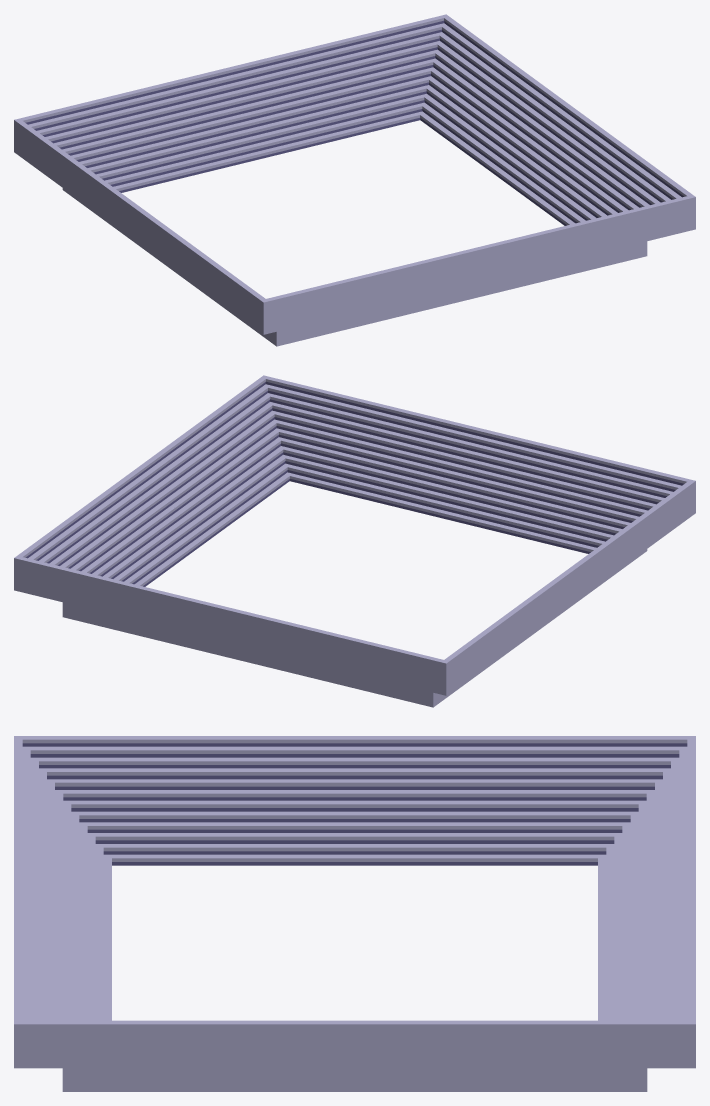
Rendered from bleachers.glb.
The picture shows the model from 3 angles, top to bottom: view 1: azimuth 30°, elevation 25°; view 2: azimuth 150°, elevation 25°; view 3: azimuth 270°, elevation 25°; orthographic projection. The views are drawn at different scales.
Parts seen in each view (by area): view 1: stairs (×67), stairs_corner_inner (×7); view 2: stairs (×67), stairs_corner_inner (×7); view 3: stairs (×86), stairs_corner_inner (×8).
Part boxes in pixels (x1,y1,x2,y2): stairs (×67): (31,22,677,326); stairs_corner_inner (×7): (14,14,695,346); stairs (×67): (32,383,678,687); stairs_corner_inner (×7): (14,375,695,707); stairs (×86): (14,736,695,1091); stairs_corner_inner (×8): (14,736,695,1091).
Size of the model in its own units: 14 by 2 by 14.
